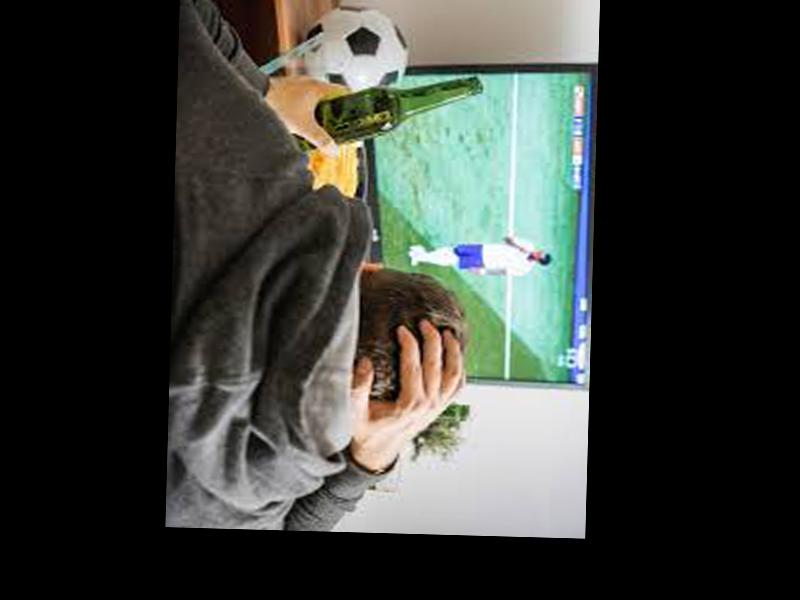Beer: (288, 71, 482, 150)
